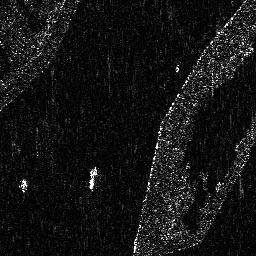ship: (88, 165, 98, 192)
